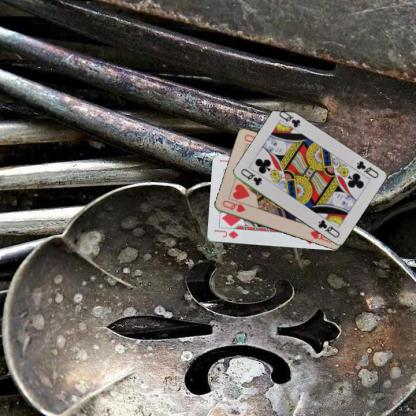Jd: (211, 227, 240, 240)
Qc: (354, 158, 380, 180), (238, 166, 263, 186)
Qh: (219, 198, 247, 214)
